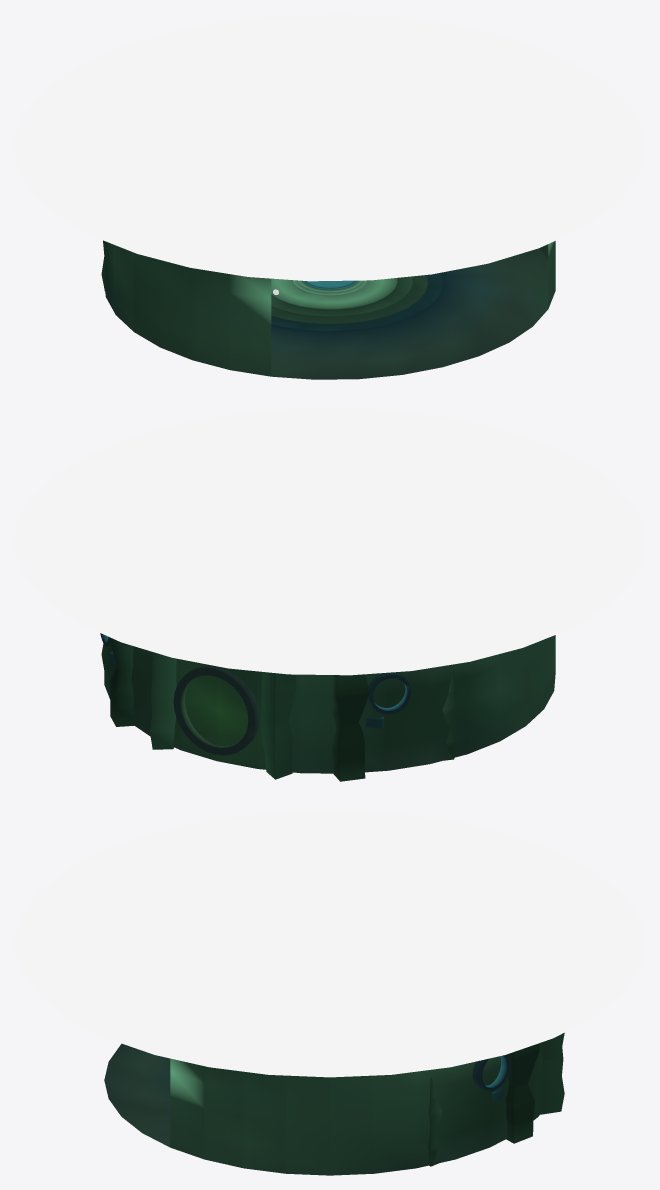
File: escenario6.glb
3 views of the same model, one above another, from view 1: azimuth 30°, elevation 25°; view 2: azimuth 150°, elevation 25°; view 3: azimuth 270°, elevation 25° (orthographic).
Parts seen in each view (by area): view 1: Circle.003, escenario; view 2: Circle.003, escenario, columnas1, columnas2, circuloCentral, columnas3, circuloIzquierdo; view 3: Circle.003, escenario, columnas2, columnas1, circuloDerecho, columnas3.
Part boxes in pixels (bbox=[...]): Circle.003: bbox=[14, 14, 645, 281]; escenario: bbox=[105, 241, 555, 379]; Circle.003: bbox=[14, 408, 645, 675]; escenario: bbox=[104, 635, 555, 773]; columnas1: bbox=[150, 652, 296, 779]; columnas2: bbox=[108, 636, 369, 781]; circuloCentral: bbox=[173, 666, 260, 755]; columnas3: bbox=[101, 643, 458, 760]; circuloIzquierdo: bbox=[368, 672, 411, 714]; Circle.003: bbox=[14, 810, 645, 1077]; escenario: bbox=[104, 1043, 542, 1175]; columnas2: bbox=[506, 1043, 539, 1143]; columnas1: bbox=[540, 1032, 564, 1114]; circuloDerecho: bbox=[472, 1054, 510, 1091]; columnas3: bbox=[428, 1078, 442, 1166].
Size of the model in its own units: 42 by 10.11 by 42.
